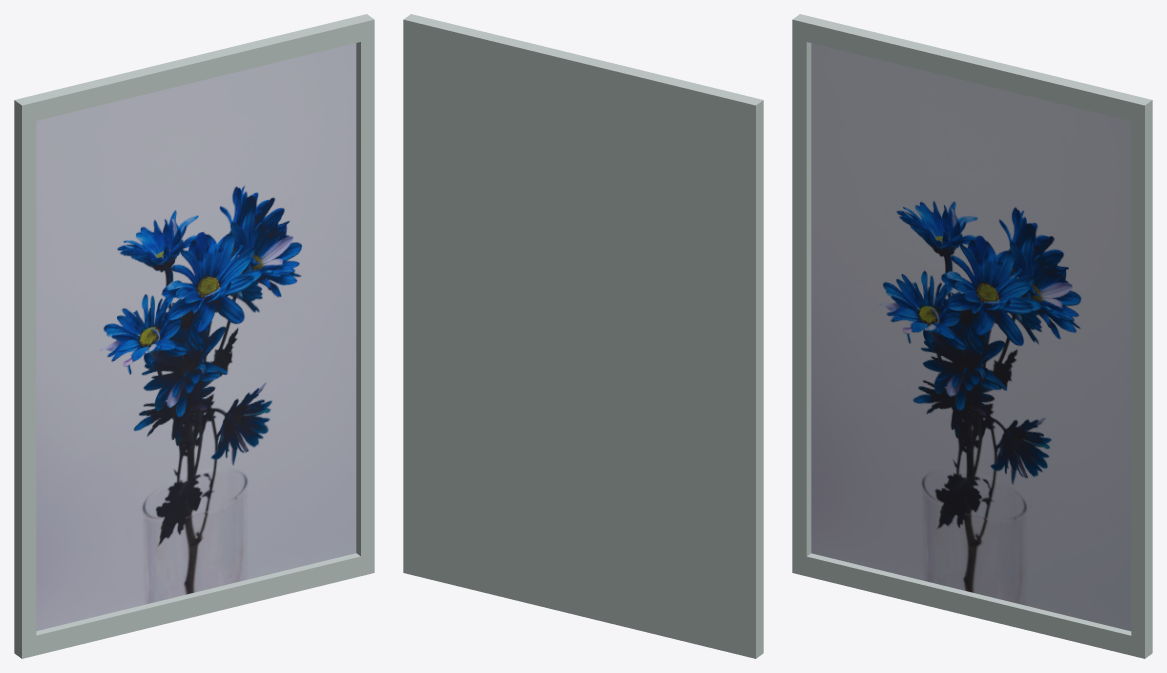
The model's file is kikuno.glb.
The picture shows the model from 3 angles, left to right: view 1: azimuth 30°, elevation 25°; view 2: azimuth 150°, elevation 25°; view 3: azimuth 330°, elevation 25°; orthographic projection.
Parts seen in each view (by area): view 1: PAINTING; view 2: PAINTING; view 3: PAINTING.
Part boxes in pixels (<box>): PAINTING: <box>14,14,374,658</box>; PAINTING: <box>403,14,763,658</box>; PAINTING: <box>792,14,1152,658</box>.
Size of the model in its own units: 1.2 by 1.8 by 0.045.
2 materials, 1 textured.
